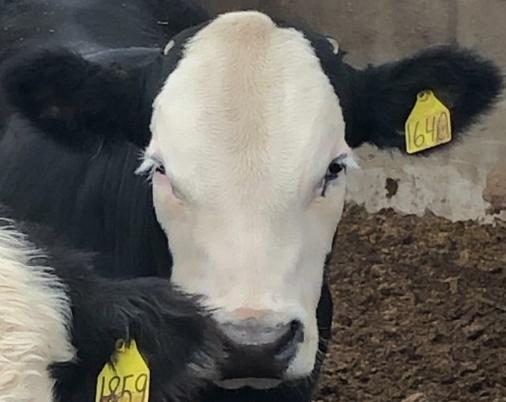muzzles: (201, 308, 317, 392)
